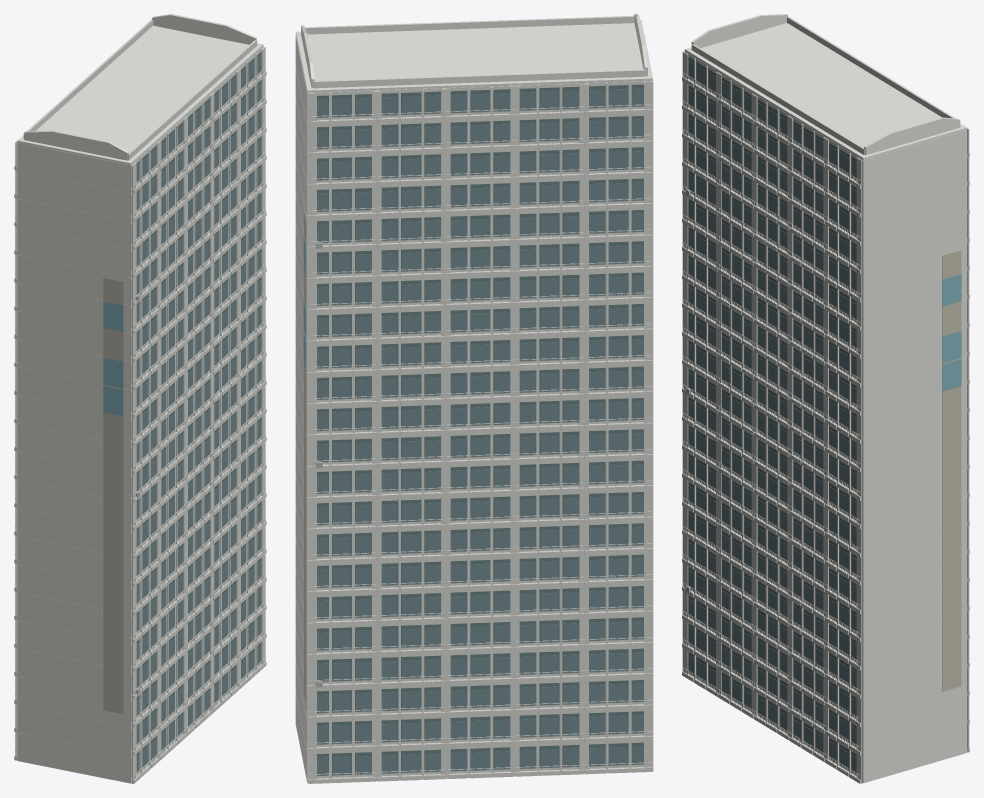
File: bespoke-gwanak-dream-town-111.glb
3 views of the same model, side by side, from view 1: azimuth 30°, elevation 25°; view 2: azimuth 150°, elevation 25°; view 3: azimuth 270°, elevation 25° (orthographic). The views are drawn at different scales.
Parts seen in each view (by area): view 1: Dream111_editable_Dream111_white_endwalls, Dream111_editable_Dream111_turquoise_balcony_glazing, Dream111_editable_Dream111_broad_white_facade_frames, Dream111_editable_Dream111_teal_grey_balcony_recess, Dream111_editable_Dream111_muted_beige_end_strip, Dream111_editable_Dream111_blue_accent_blocks; view 2: Dream111_editable_Dream111_white_endwalls, Dream111_editable_Dream111_turquoise_balcony_glazing, Dream111_editable_Dream111_teal_grey_balcony_recess, Dream111_editable_Dream111_broad_white_facade_frames, Dream111_editable_Dream111_muted_beige_end_strip; view 3: Dream111_editable_Dream111_white_endwalls, Dream111_editable_Dream111_turquoise_balcony_glazing, Dream111_editable_Dream111_broad_white_facade_frames, Dream111_editable_Dream111_teal_grey_balcony_recess, Dream111_editable_Dream111_muted_beige_end_strip, Dream111_editable_Dream111_blue_accent_blocks.
Part boxes in pixels (x1,y1,x2,y2): Dream111_editable_Dream111_white_endwalls: [14, 14, 266, 783]; Dream111_editable_Dream111_turquoise_balcony_glazing: [136, 55, 261, 772]; Dream111_editable_Dream111_broad_white_facade_frames: [14, 25, 266, 783]; Dream111_editable_Dream111_teal_grey_balcony_recess: [131, 52, 261, 777]; Dream111_editable_Dream111_muted_beige_end_strip: [103, 277, 123, 714]; Dream111_editable_Dream111_blue_accent_blocks: [103, 301, 123, 416]; Dream111_editable_Dream111_white_endwalls: [295, 14, 653, 783]; Dream111_editable_Dream111_turquoise_balcony_glazing: [317, 88, 643, 775]; Dream111_editable_Dream111_teal_grey_balcony_recess: [317, 84, 643, 775]; Dream111_editable_Dream111_broad_white_facade_frames: [295, 19, 653, 781]; Dream111_editable_Dream111_muted_beige_end_strip: [304, 210, 306, 702]; Dream111_editable_Dream111_white_endwalls: [682, 14, 969, 783]; Dream111_editable_Dream111_turquoise_balcony_glazing: [688, 60, 856, 772]; Dream111_editable_Dream111_broad_white_facade_frames: [682, 23, 969, 782]; Dream111_editable_Dream111_teal_grey_balcony_recess: [688, 57, 856, 773]; Dream111_editable_Dream111_muted_beige_end_strip: [942, 250, 961, 691]; Dream111_editable_Dream111_blue_accent_blocks: [942, 274, 961, 391].
Bounding box in the file's own units: 29.74 × 63.04 × 25.72.
